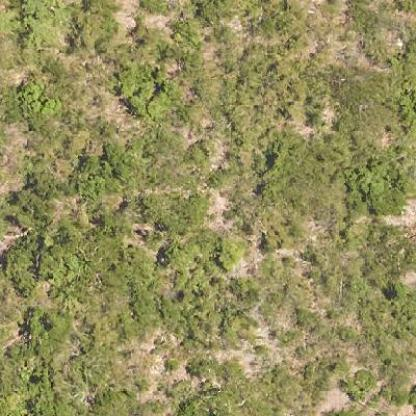tree-top: (3, 226, 108, 298), (335, 144, 411, 218), (105, 59, 191, 123)
